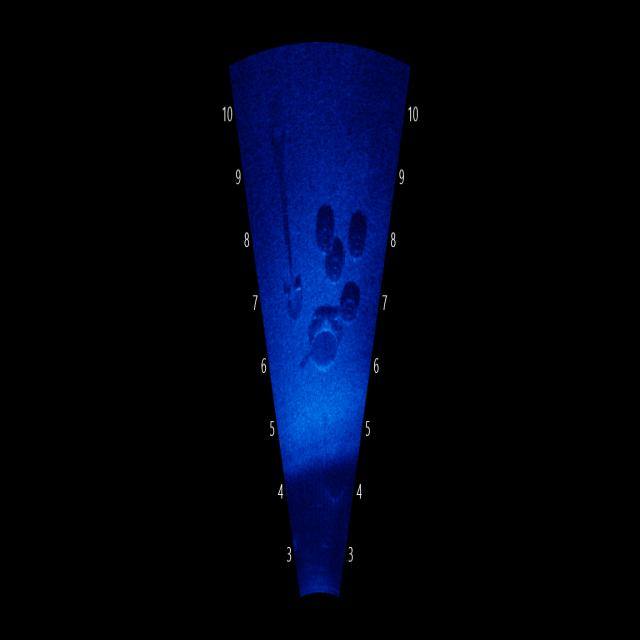circle: (296, 296, 349, 372), (343, 210, 374, 268), (309, 201, 343, 252), (323, 233, 350, 288), (338, 278, 364, 324)
